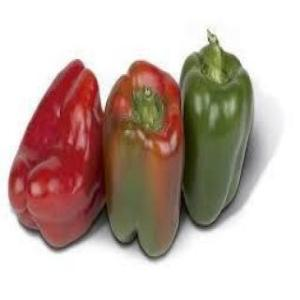bell_pepper: (94, 56, 192, 264), (169, 27, 266, 235)
